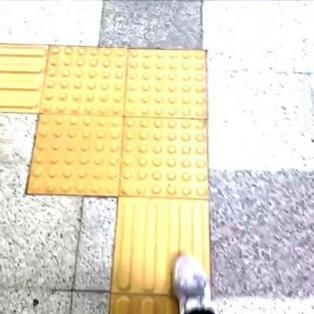Podoctatil: (13, 19, 228, 250), (108, 202, 214, 313)
